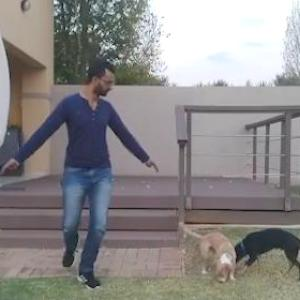land: (1, 52, 168, 292)
